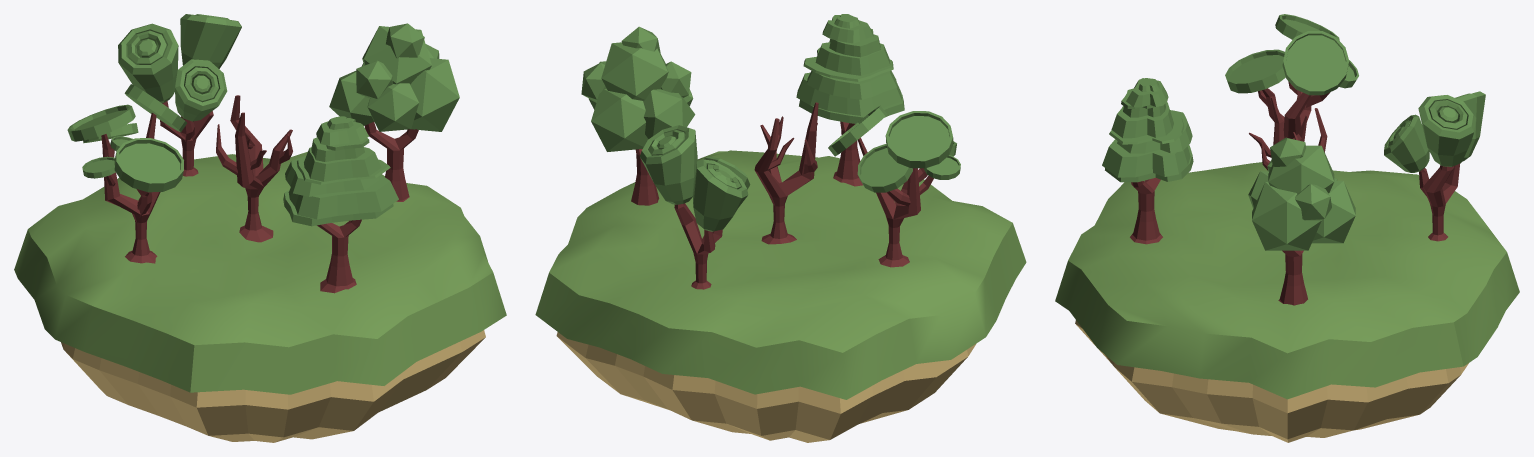
Rendered from asset.gltf.
The picture shows the model from 3 angles, left to right: view 1: azimuth 30°, elevation 25°; view 2: azimuth 150°, elevation 25°; view 3: azimuth 270°, elevation 25°; orthographic projection. The views are drawn at different scales.
Visible parts, largest first — view 1: Plane, Plane.001, Icosphere.003 (×2), Plane.007 (×2), Cylinder.001 (×2), Cylinder.003 (×2), Cylinder.000; view 2: Plane, Plane.001, Icosphere.003 (×2), Cylinder.003 (×2), Plane.007 (×2), Cylinder.001 (×2), Cylinder.000; view 3: Plane, Plane.001, Icosphere.003 (×2), Plane.007 (×2), Cylinder.003 (×2), Cylinder.001 (×2), Cylinder.000.
Part boxes in pixels (box(x1,y1,x2,y2)): Plane: box(14, 151, 506, 394); Plane.001: box(61, 330, 485, 442); Icosphere.003 (×2): box(329, 23, 459, 201); Plane.007 (×2): box(283, 116, 398, 293); Cylinder.001 (×2): box(118, 14, 241, 176); Cylinder.003 (×2): box(67, 84, 186, 263); Cylinder.000: box(216, 95, 292, 242); Plane: box(535, 150, 1026, 399); Plane.001: box(556, 332, 976, 442); Icosphere.003 (×2): box(581, 26, 695, 205); Cylinder.003 (×2): box(828, 105, 960, 267); Plane.007 (×2): box(796, 14, 904, 186); Cylinder.001 (×2): box(639, 125, 750, 289); Cylinder.000: box(754, 102, 818, 244); Plane: box(1055, 162, 1519, 399); Plane.001: box(1075, 320, 1468, 442); Icosphere.003 (×2): box(1248, 137, 1355, 305); Plane.007 (×2): box(1102, 78, 1193, 244); Cylinder.003 (×2): box(1225, 14, 1358, 138); Cylinder.001 (×2): box(1384, 91, 1485, 241); Cylinder.000: box(1249, 96, 1327, 170).
Bounding box in the file's own units: 37.38 × 31.27 × 37.38.
